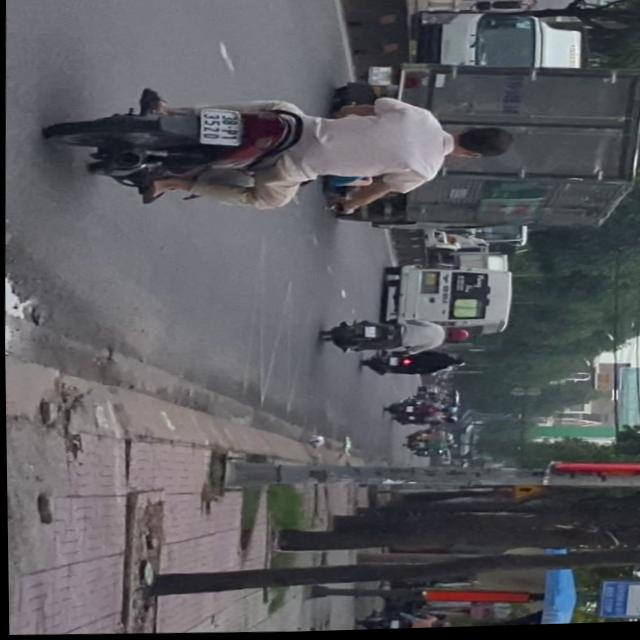licenseplate: (50, 77, 519, 221)
motorcyclist: (447, 125, 516, 163)
nohelmet: (201, 107, 243, 144)
